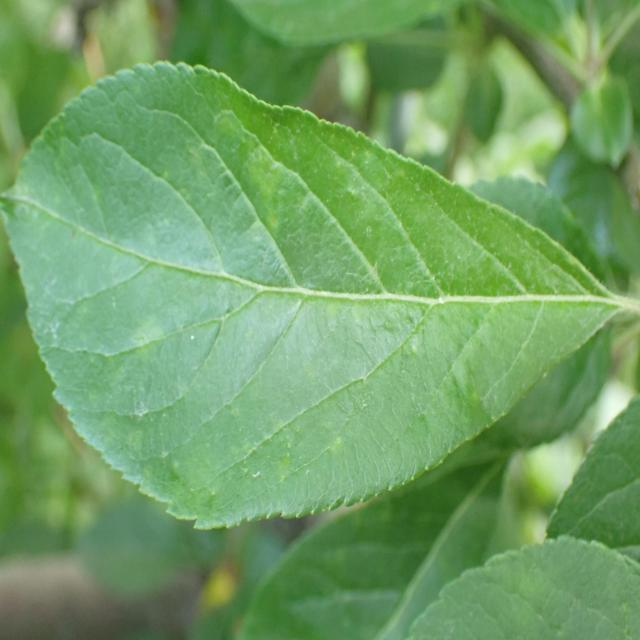scab: (5, 65, 617, 517)
